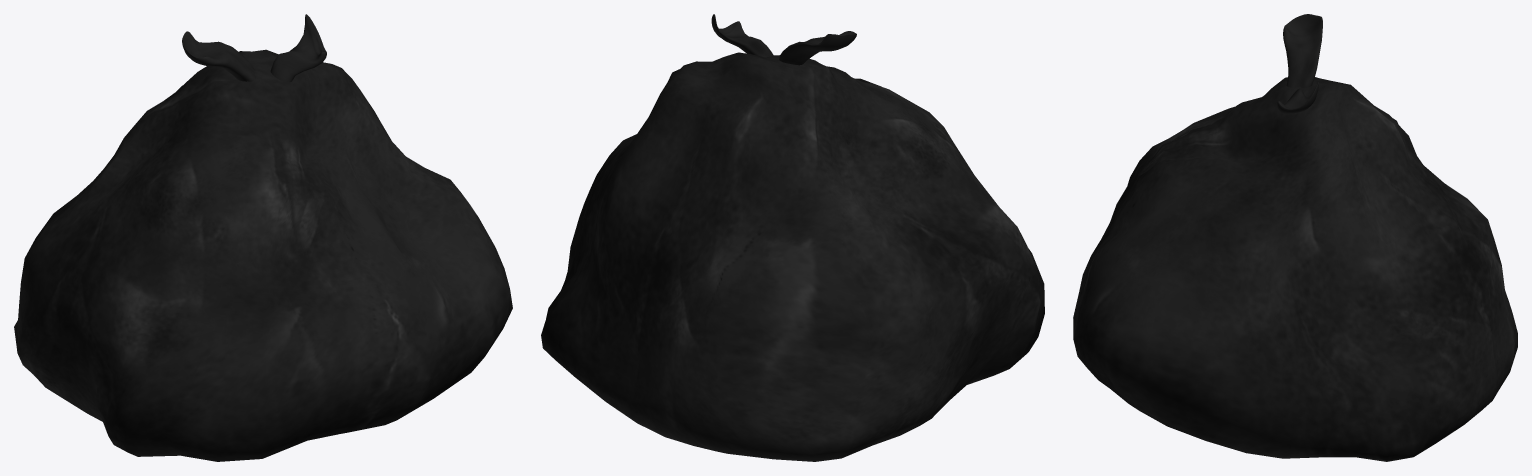
Rendered from garbage_bag2.fbx.
3 renders of one model, left to right at view 1: azimuth 30°, elevation 25°; view 2: azimuth 150°, elevation 25°; view 3: azimuth 270°, elevation 25°, orthographic. The views are drawn at different scales.
Parts seen in each view (by area): view 1: garbage_bag2; view 2: garbage_bag2; view 3: garbage_bag2.
Part boxes in pixels (x1,y1,x2,y2): garbage_bag2: (14, 14, 512, 461); garbage_bag2: (541, 14, 1044, 461); garbage_bag2: (1073, 14, 1517, 461).
Size of the model in its own units: 268 by 238 by 259.
